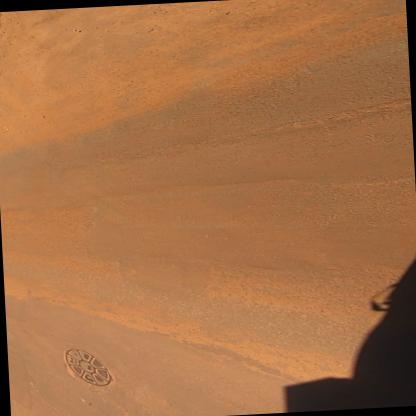manholes: (56, 342, 120, 390)
